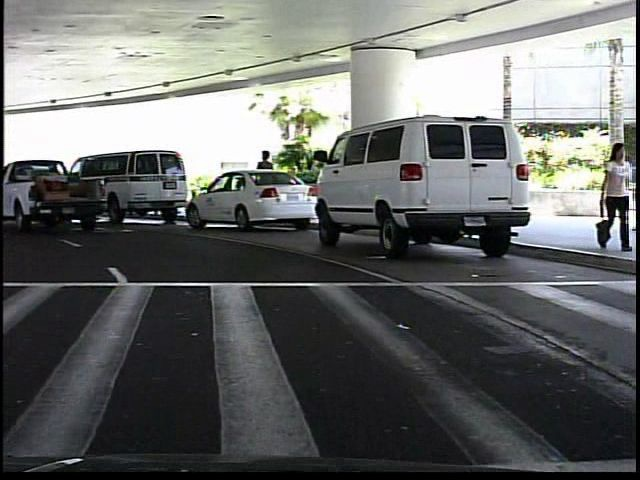person: (596, 139, 630, 253), (254, 148, 280, 217)
